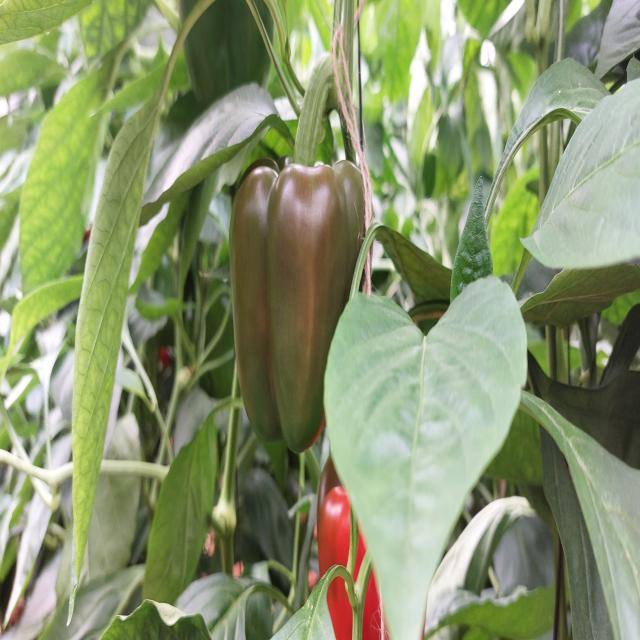BrownishRed--Can-be-Harvested: (231, 177, 363, 442)
